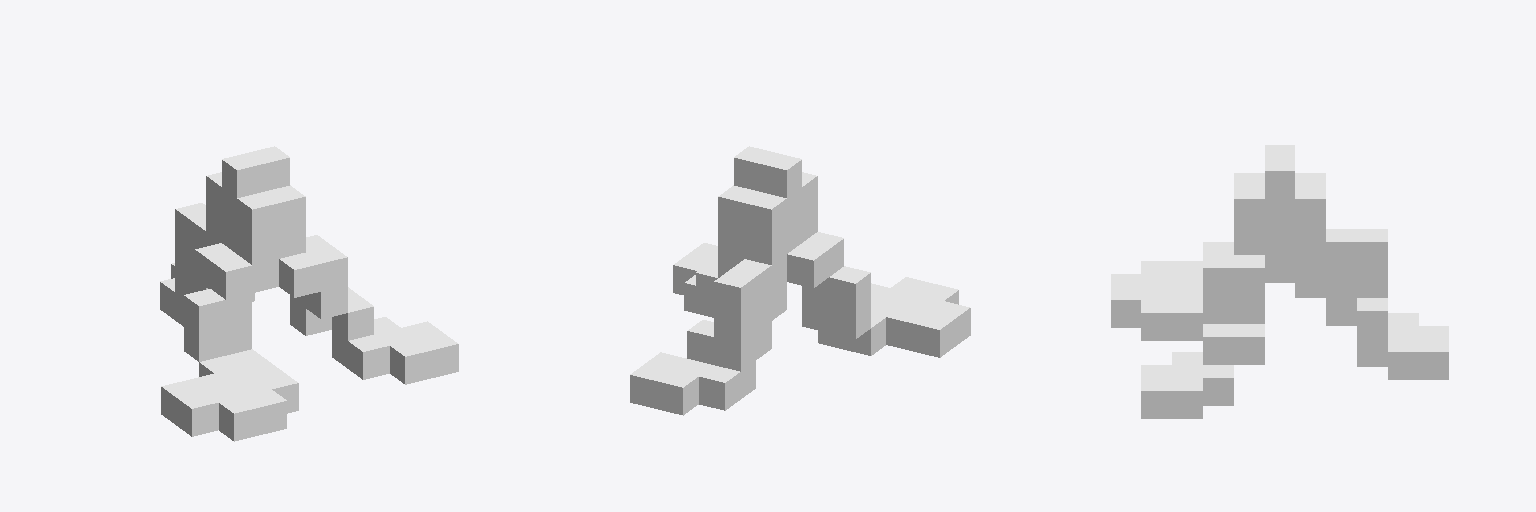
File: banana.obj
The picture shows the model from 3 angles: view 1: azimuth 30°, elevation 25°; view 2: azimuth 150°, elevation 25°; view 3: azimuth 270°, elevation 25°; orthographic projection.
Parts seen in each view (by area): view 1: object 1; view 2: object 1; view 3: object 1.
Part boxes in pixels (x1,y1,x2,y2): object 1: (160,146,458,441); object 1: (630,146,970,415); object 1: (1111,145,1448,418).
Bounding box in the file's own units: 1 × 0.7 × 1.1.